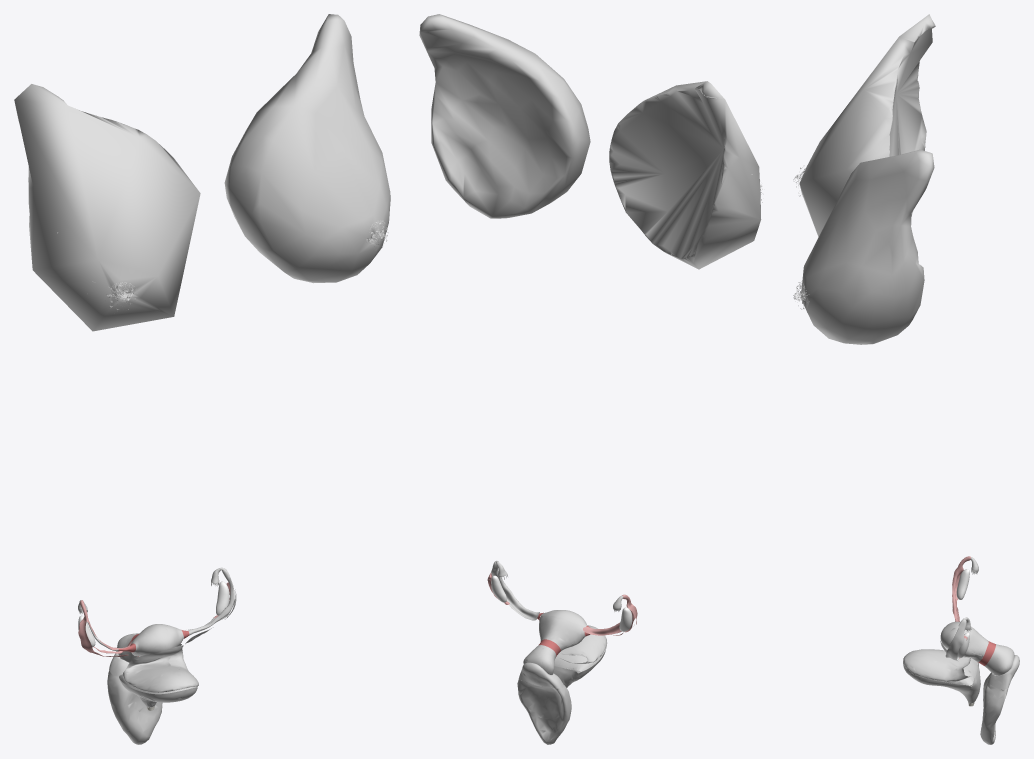
Rendered from organs.glb.
3 views of the same model, side by side, from view 1: azimuth 30°, elevation 25°; view 2: azimuth 150°, elevation 25°; view 3: azimuth 270°, elevation 25° (orthographic). The views are drawn at different scales.
Visible parts, largest first — view 1: HRA-VH_F_fat_R, HRA-VH_F_fat_L, HRA-VH_F_uterovesical_pouch, HRA-VH_F_vagina, HRA-VH_F_fundus_of_uterus, HRA-VH_F_fundus_of_urinary_bladder_base; view 2: HRA-VH_F_fat_L, HRA-VH_F_fat_R, HRA-VH_F_vagina, HRA-VH_F_body_of_uterus, HRA-VH_F_uterovesical_pouch, HRA-VH_F_cervicovaginal_junction, HRA-VH_F_cervix; view 3: HRA-VH_F_fat_L, HRA-VH_F_fat_R, HRA-VH_F_uterovesical_pouch, HRA-VH_F_vagina, HRA-VH_F_fundus_of_urinary_bladder_base, HRA-VH_F_cervix, HRA-VH_F_cervicovaginal_junction, HRA-VH_F_body_of_uterus, HRA-VH_F_fundus_of_urinary_bladder_dome, HRA-VH_F_mesosalpinx_L, HRA-VH_F_mesosalpinx_R.
Boxes of the visible parts, left/top/right/bottom form: HRA-VH_F_fat_R: left=14, top=84, right=200, bottom=331; HRA-VH_F_fat_L: left=224, top=14, right=390, bottom=283; HRA-VH_F_uterovesical_pouch: left=123, top=644, right=198, bottom=692; HRA-VH_F_vagina: left=107, top=670, right=162, bottom=744; HRA-VH_F_fundus_of_uterus: left=133, top=624, right=183, bottom=655; HRA-VH_F_fundus_of_urinary_bladder_base: left=120, top=680, right=197, bottom=707; HRA-VH_F_fat_L: left=419, top=14, right=590, bottom=218; HRA-VH_F_fat_R: left=609, top=81, right=761, bottom=269; HRA-VH_F_vagina: left=517, top=680, right=571, bottom=744; HRA-VH_F_body_of_uterus: left=539, top=615, right=585, bottom=650; HRA-VH_F_uterovesical_pouch: left=559, top=625, right=606, bottom=663; HRA-VH_F_cervicovaginal_junction: left=518, top=662, right=563, bottom=688; HRA-VH_F_cervix: left=523, top=645, right=555, bottom=674; HRA-VH_F_fat_L: left=801, top=149, right=934, bottom=344; HRA-VH_F_fat_R: left=799, top=14, right=935, bottom=236; HRA-VH_F_uterovesical_pouch: left=903, top=640, right=971, bottom=681; HRA-VH_F_vagina: left=980, top=674, right=1007, bottom=744; HRA-VH_F_fundus_of_urinary_bladder_base: left=903, top=662, right=980, bottom=703; HRA-VH_F_cervix: left=984, top=644, right=1014, bottom=675; HRA-VH_F_cervicovaginal_junction: left=988, top=655, right=1019, bottom=689; HRA-VH_F_body_of_uterus: left=963, top=626, right=988, bottom=661; HRA-VH_F_fundus_of_urinary_bladder_dome: left=903, top=658, right=977, bottom=685; HRA-VH_F_mesosalpinx_L: left=945, top=619, right=966, bottom=661; HRA-VH_F_mesosalpinx_R: left=952, top=556, right=970, bottom=621.
Size of the model in its own units: 0.6359 by 1.26 by 0.3883.
